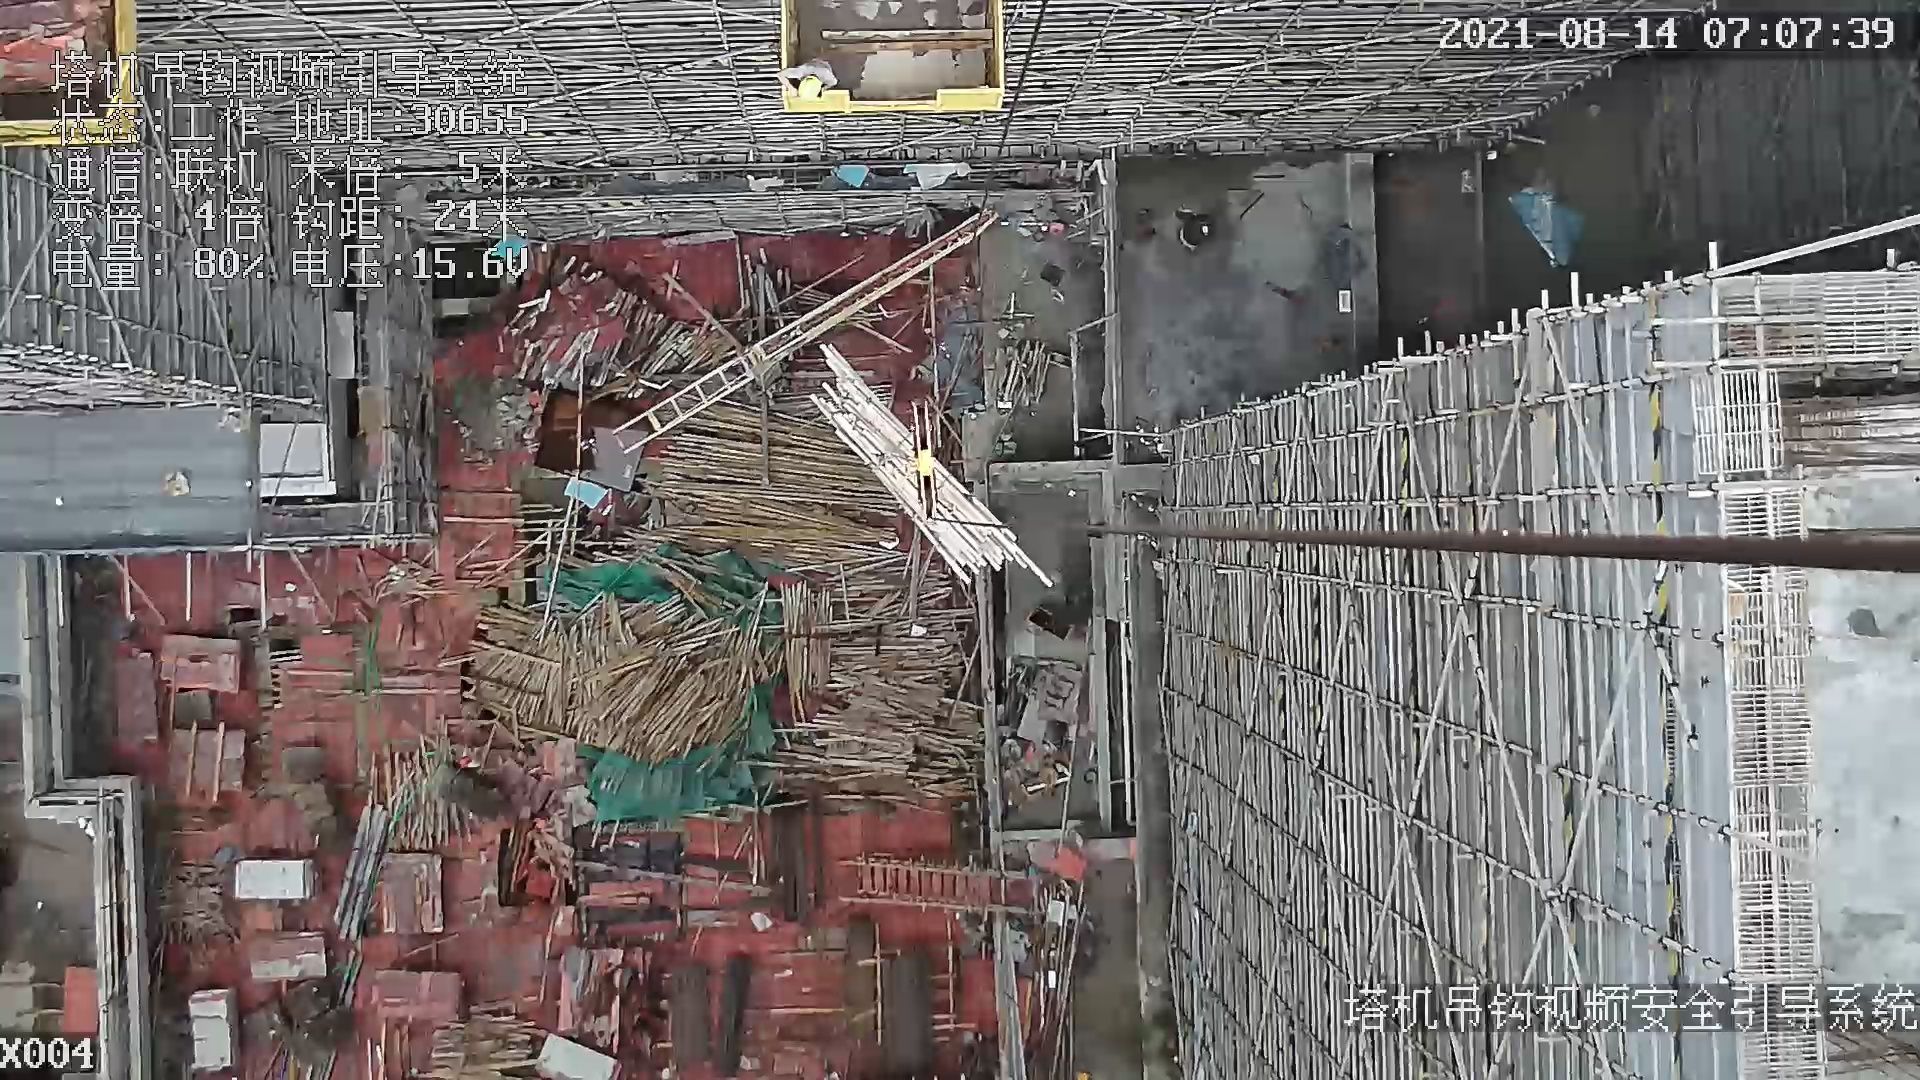helmet: (796, 73, 823, 100)
hook: (906, 395, 947, 528)
person: (787, 63, 837, 99)
